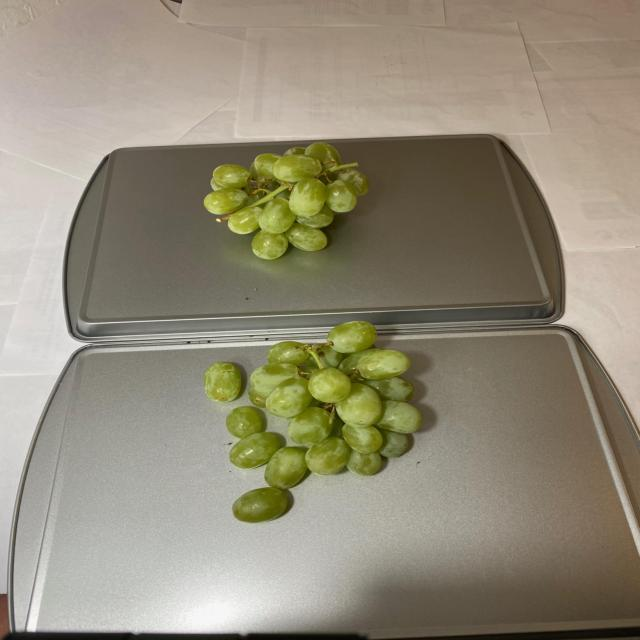grapes: (206, 321, 431, 522), (206, 142, 368, 265)
